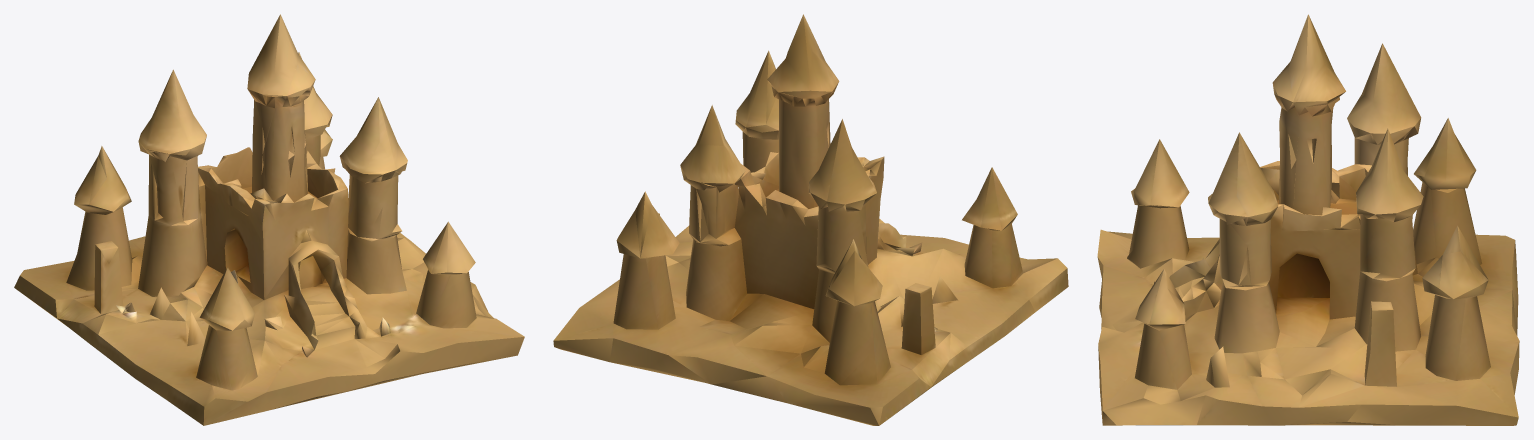
File: sandcastle.glb
3 views of the same model, side by side, from view 1: azimuth 30°, elevation 25°; view 2: azimuth 150°, elevation 25°; view 3: azimuth 270°, elevation 25° (orthographic). The views are drawn at different scales.
Visible parts, largest first — view 1: model; view 2: model; view 3: model.
Part boxes in pixels (box(x1,y1,x2,y2)): model: box(14, 14, 524, 425); model: box(553, 14, 1068, 425); model: box(1097, 14, 1519, 425).
Bounding box in the file's own units: 1.89 × 1.66 × 1.89.
Materials: 1 (1 with a texture image).
